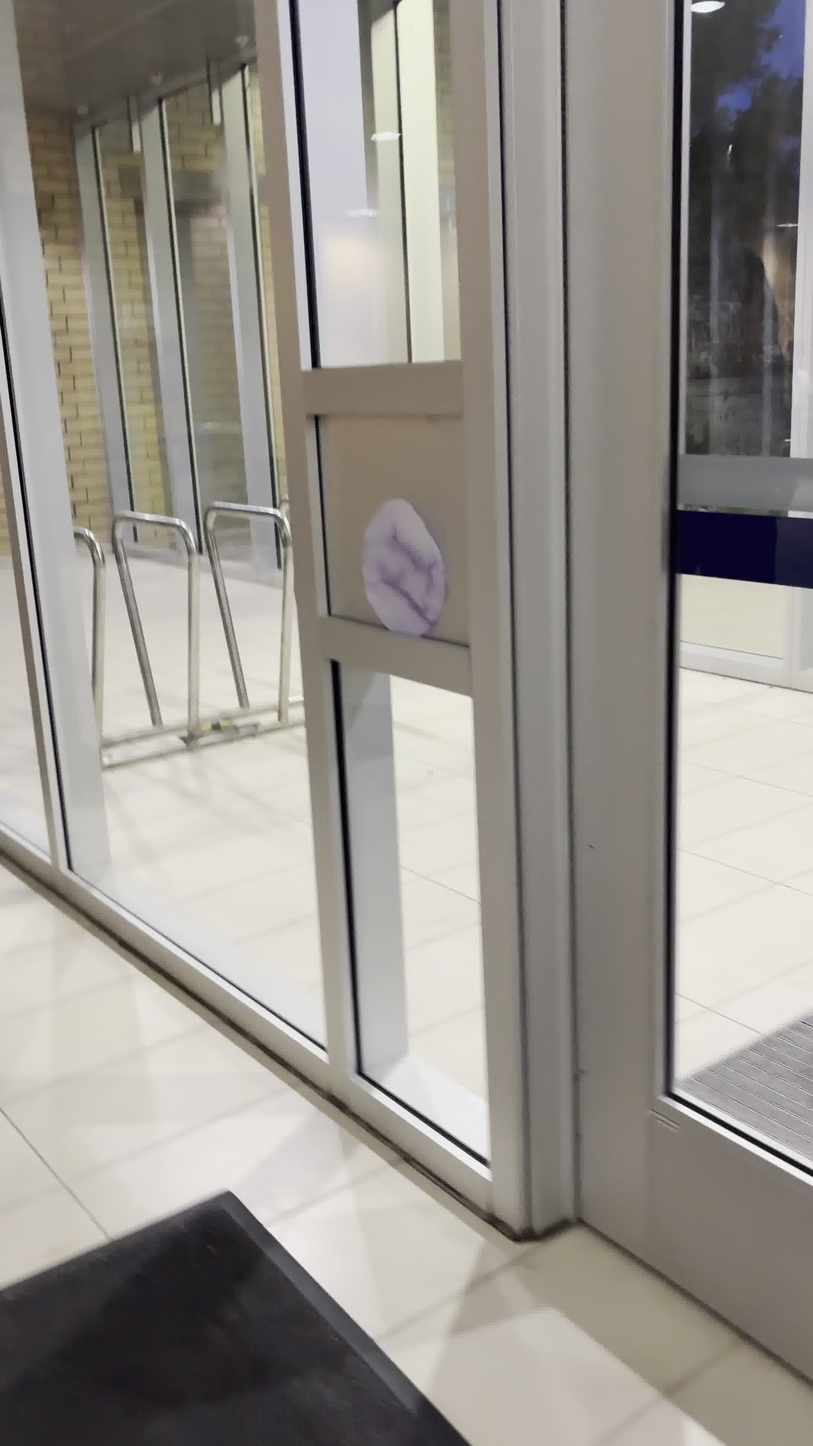Target: (348, 489, 451, 643)
